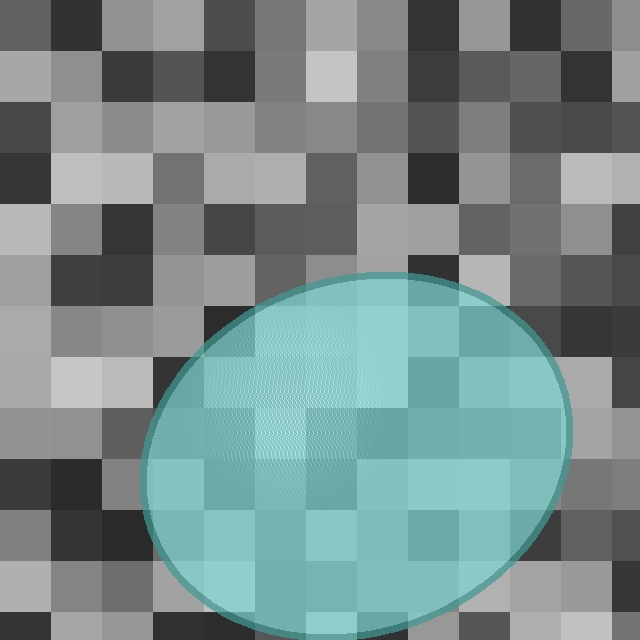lens: (143, 275, 569, 637)
